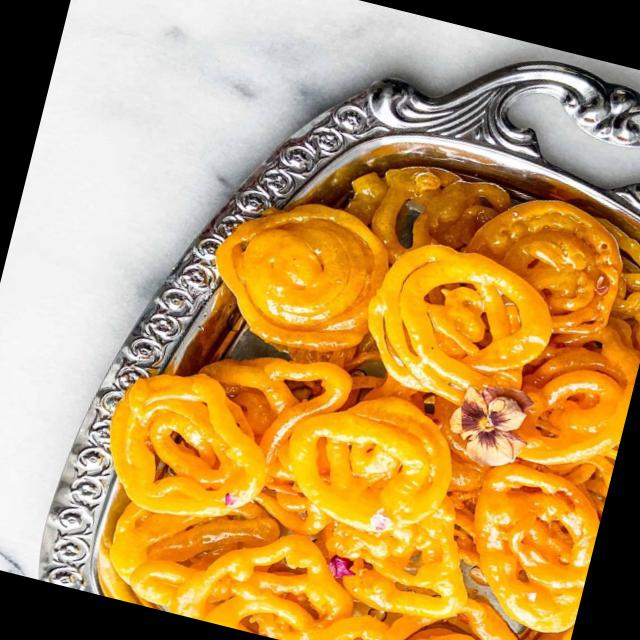jalebi: (78, 99, 640, 640)
